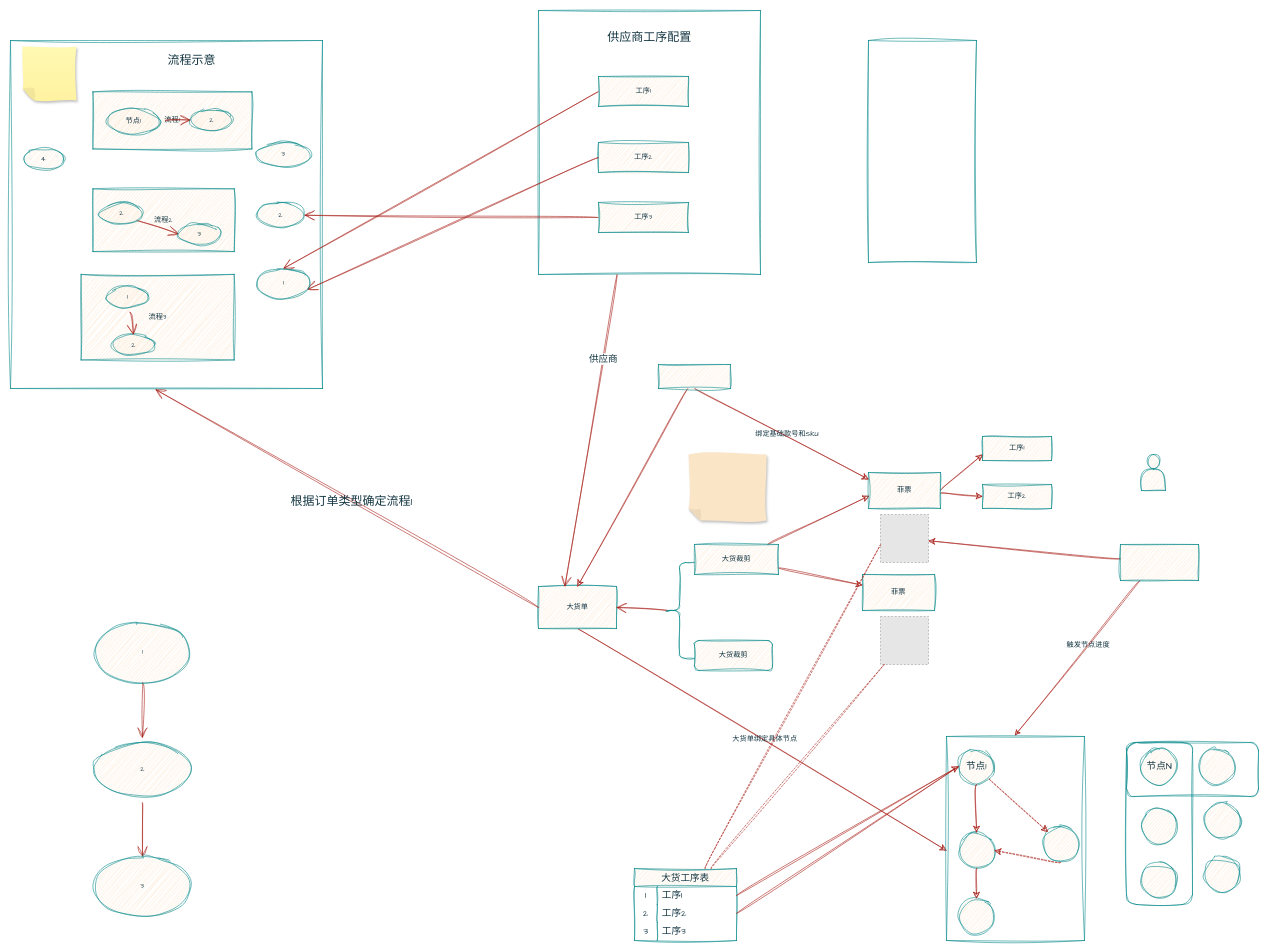
Image size: 1269x951. Some labels were removed from this diagram. Grey dashed boxes stand in for pictures. The centre of each missing label's shape, as x and y in pixels:
"内部：内部款号SKU 外部： 维护款号外部SKU自动生成 颜色尺码规则" belongs at (728,488).
"扫菲上报" belongs at (1159,562).
"款号SkU" belongs at (694,376).
"节点1-4 初始化数据" belongs at (50,74).
